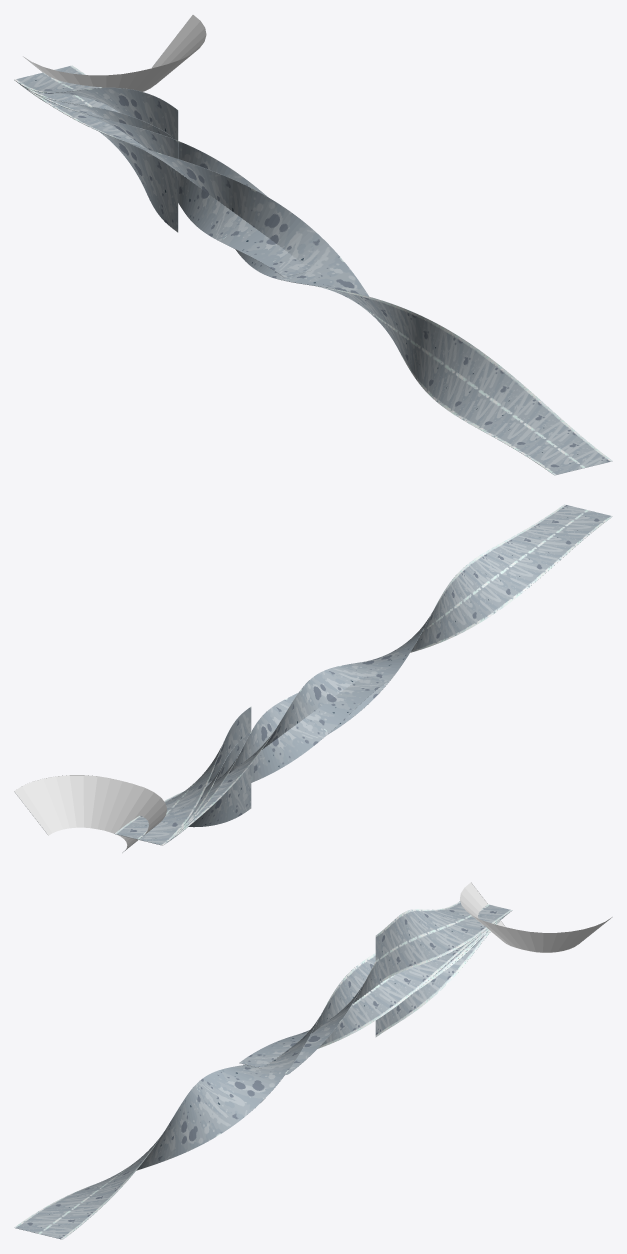
Rendered from Spinning_roads.glb.
3 renders of one model, top to bottom at view 1: azimuth 30°, elevation 25°; view 2: azimuth 150°, elevation 25°; view 3: azimuth 330°, elevation 25°, orthographic. The views are drawn at different scales.
Visible parts, largest first — view 1: Road_spinning_360, Road_spinning_180, Road_Spinning_90_down, Road_45y_Uturn, Road_Spinning_90_up, Road_Spinning_90, Road_45y_turn; view 2: Road_spinning_360, Road_45y_Uturn, Road_spinning_180, Road_Spinning_90_down, Road_Spinning_90_up, Road_Spinning_90, Road_45y_turn; view 3: Road_spinning_360, Road_Spinning_90_down, Road_spinning_180, Road_45y_Uturn, Road_Spinning_90_up.
Part boxes in pixels (x1=…): Road_spinning_360: x1=14, y1=79, x2=612, y2=475; Road_spinning_180: x1=14, y1=80, x2=311, y2=277; Road_Spinning_90_down: x1=14, y1=65, x2=178, y2=146; Road_45y_Uturn: x1=23, y1=15, x2=206, y2=91; Road_Spinning_90_up: x1=20, y1=84, x2=178, y2=232; Road_Spinning_90: x1=21, y1=85, x2=178, y2=158; Road_45y_turn: x1=24, y1=57, x2=150, y2=89; Road_spinning_360: x1=135, y1=504, x2=612, y2=842; Road_45y_Uturn: x1=14, y1=775, x2=166, y2=852; Road_spinning_180: x1=141, y1=675, x2=387, y2=845; Road_Spinning_90_down: x1=114, y1=706, x2=251, y2=845; Road_Spinning_90_up: x1=169, y1=766, x2=251, y2=841; Road_Spinning_90: x1=115, y1=733, x2=250, y2=844; Road_45y_turn: x1=105, y1=782, x2=162, y2=848; Road_spinning_360: x1=14, y1=911, x2=511, y2=1239; Road_Spinning_90_down: x1=375, y1=901, x2=511, y2=982; Road_spinning_180: x1=239, y1=917, x2=503, y2=1074; Road_45y_Uturn: x1=460, y1=882, x2=612, y2=952; Road_Spinning_90_up: x1=375, y1=915, x2=506, y2=1037.
Bounding box in the file's own units: 30.62 × 20 × 160.
1 material, 1 textured.
